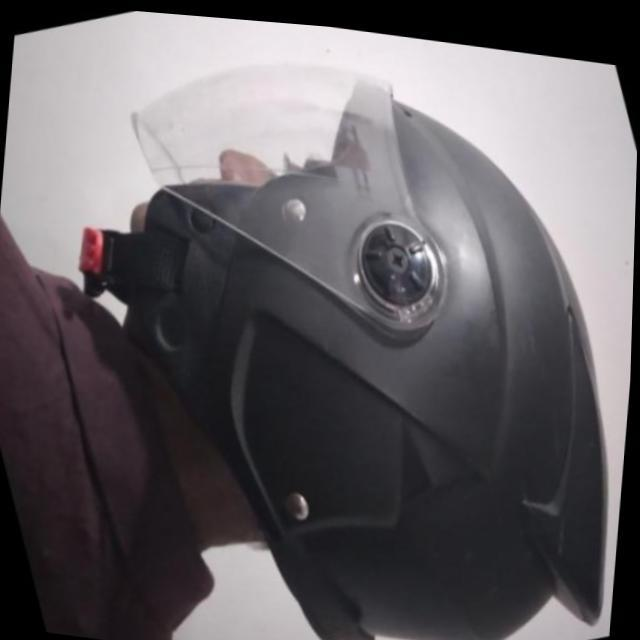with_helmet: (90, 70, 606, 635)
